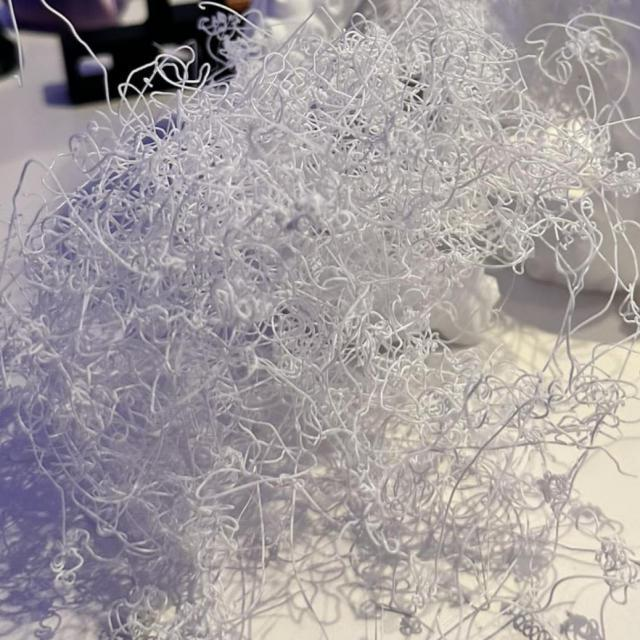spaghetti: (19, 197, 278, 440), (282, 383, 479, 620), (79, 427, 267, 631), (471, 110, 628, 270), (308, 180, 452, 353), (492, 477, 640, 591), (269, 45, 406, 166), (129, 72, 267, 189), (481, 369, 613, 472), (407, 19, 512, 127), (549, 20, 618, 106)
